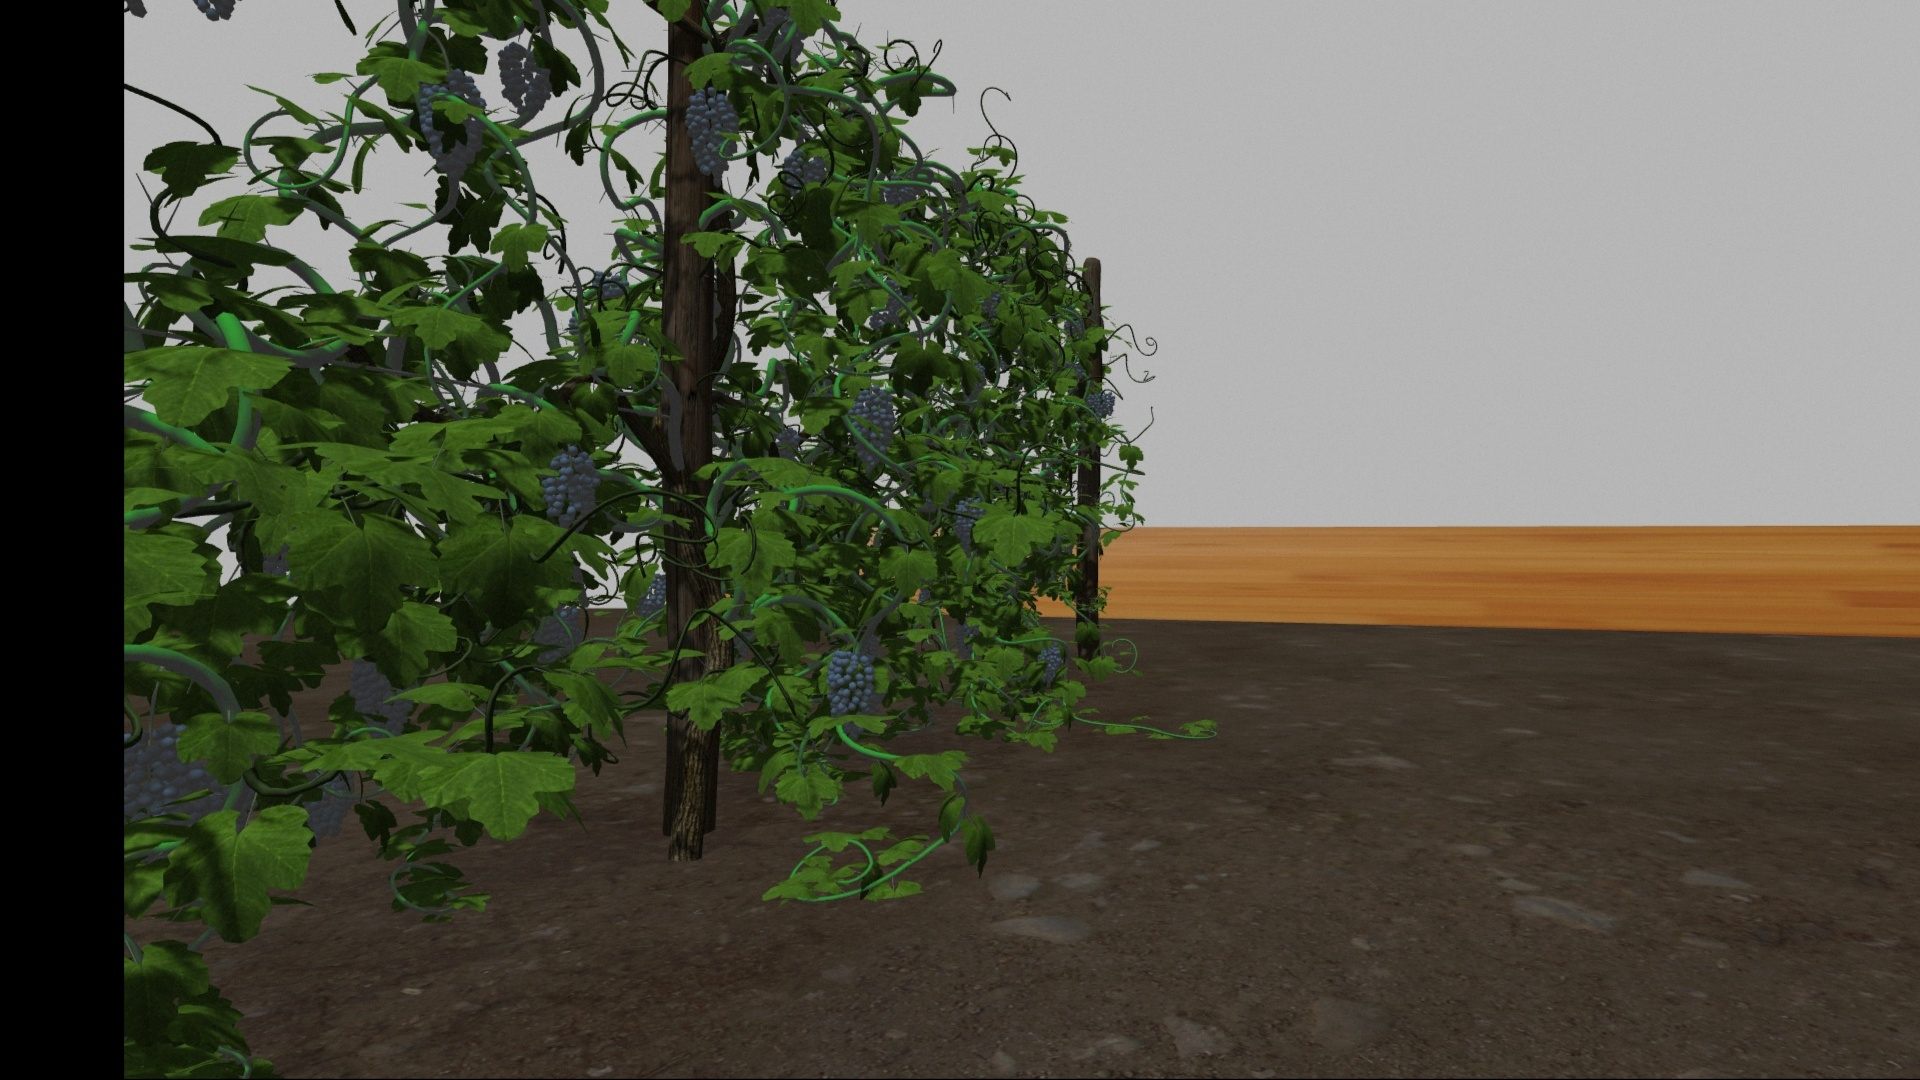grape: (128, 713, 225, 825), (419, 69, 487, 181), (541, 444, 599, 527), (684, 87, 738, 175), (298, 756, 352, 837), (847, 385, 895, 471), (498, 40, 550, 115), (827, 651, 876, 717), (348, 662, 394, 725), (535, 604, 585, 659), (781, 145, 828, 195), (951, 495, 982, 556), (632, 574, 669, 618), (1036, 642, 1062, 684), (953, 620, 978, 658), (1087, 394, 1104, 415), (1104, 392, 1116, 415)
